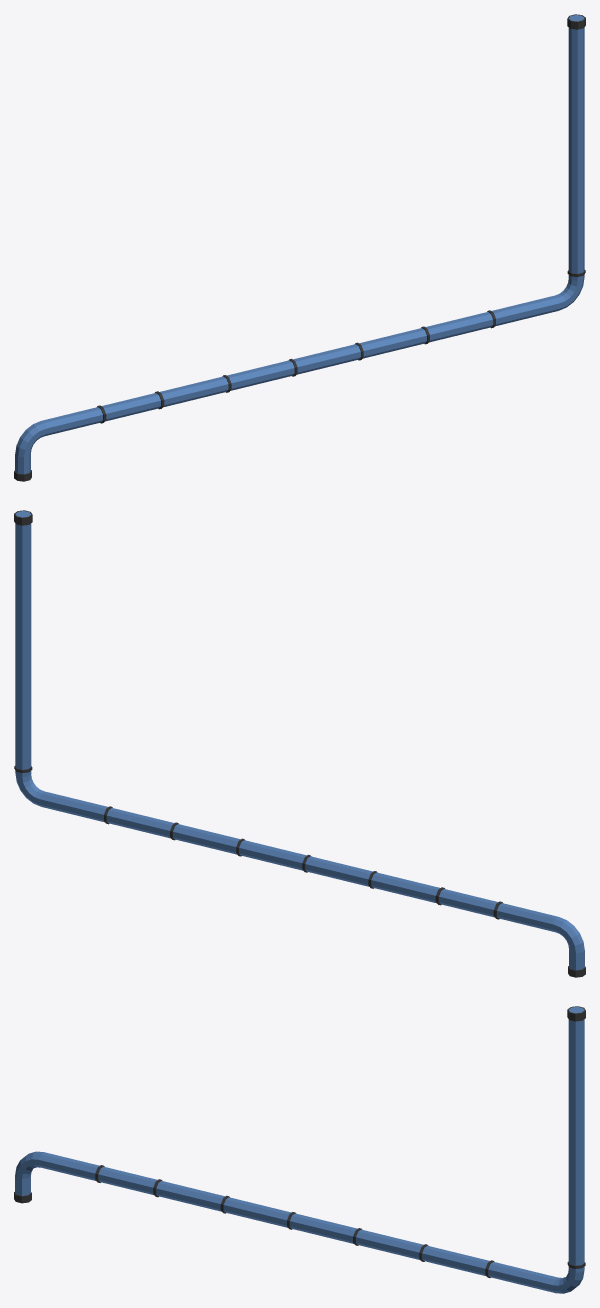
The model's file is Pipe_01.fbx.
The picture shows the model from 3 angles, top to bottom: view 1: azimuth 30°, elevation 25°; view 2: azimuth 150°, elevation 25°; view 3: azimuth 330°, elevation 25°; orthographic projection.
Parts seen in each view (by area): view 1: Pipe_01; view 2: Pipe_01; view 3: Pipe_01.
Boxes of the visible parts, x1,y1,x2,y2 form: Pipe_01: (14, 14, 585, 481); Pipe_01: (14, 510, 585, 977); Pipe_01: (14, 1006, 585, 1293).
Bounding box in the file's own units: 697 × 380 × 18.47.
